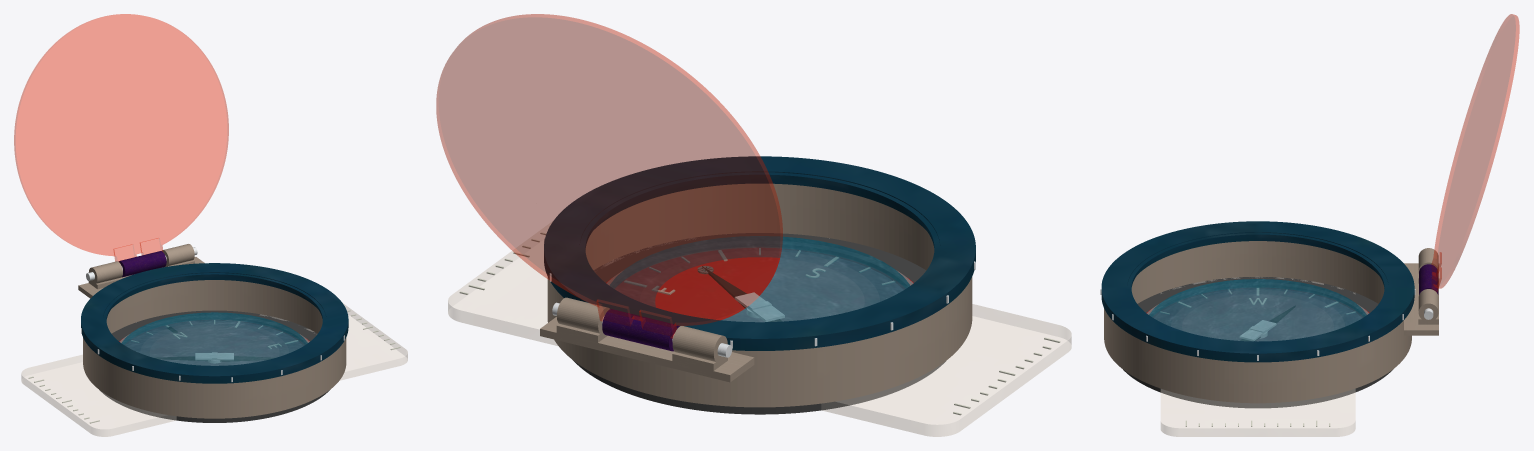
Rendered from pictureX_0611_compass__0116.glb.
3 renders of one model, left to right at view 1: azimuth 30°, elevation 25°; view 2: azimuth 150°, elevation 25°; view 3: azimuth 270°, elevation 25°, orthographic. The views are drawn at different scales.
Visible parts, largest first — view 1: cover::cover_disc, case::capsule_wall, bezel::bezel_ring, case::base_plate, case::fluid_fill, case::capsule_floor, cover::cover_knuckle, case::hinge_knuckle_0, case::hinge_knuckle_1; view 2: cover::cover_disc, case::capsule_wall, bezel::bezel_ring, case::base_plate, case::fluid_fill, case::dial_face, case::capsule_floor, case::hinge_bridge, cover::cover_knuckle, case::hinge_knuckle_0, case::hinge_knuckle_1, magnetic_needle::damping_vane; view 3: case::capsule_wall, bezel::bezel_ring, case::fluid_fill, cover::cover_disc, case::base_plate, case::capsule_floor, case::hinge_bridge, case::hinge_knuckle_1, cover::cover_knuckle.
Boxes of the visible parts, x1,y1,x2,y2 form: cover::cover_disc: (14, 14, 228, 262); case::capsule_wall: (83, 280, 346, 418); bezel::bezel_ring: (81, 263, 348, 383); case::base_plate: (21, 303, 407, 436); case::fluid_fill: (121, 312, 307, 365); case::capsule_floor: (100, 310, 330, 422); cover::cover_knuckle: (118, 251, 166, 277); case::hinge_knuckle_0: (88, 261, 122, 283); case::hinge_knuckle_1: (162, 244, 194, 266); cover::cover_disc: (436, 14, 782, 338); case::capsule_wall: (547, 183, 972, 407); bezel::bezel_ring: (544, 156, 975, 350); case::base_plate: (448, 221, 1071, 436); case::fluid_fill: (609, 236, 910, 322); case::dial_face: (606, 248, 913, 320); case::capsule_floor: (573, 233, 945, 414); case::hinge_bridge: (540, 317, 754, 382); cover::cover_knuckle: (602, 309, 679, 351); case::hinge_knuckle_0: (672, 326, 727, 361); case::hinge_knuckle_1: (556, 297, 609, 333); magnetic_needle::damping_vane: (734, 292, 784, 321); case::capsule_wall: (1104, 241, 1411, 403); bezel::bezel_ring: (1101, 221, 1414, 362); case::fluid_fill: (1149, 279, 1366, 341); cover::cover_disc: (1431, 14, 1519, 291); case::base_plate: (1160, 277, 1355, 436); case::capsule_floor: (1123, 276, 1393, 408); case::hinge_bridge: (1404, 263, 1438, 335); case::hinge_knuckle_1: (1418, 289, 1438, 321); cover::cover_knuckle: (1419, 264, 1438, 294).
Bounding box in the file's own units: 0.1314 × 0.1087 × 0.1294.
Materials: 68 (12 with a texture image).
